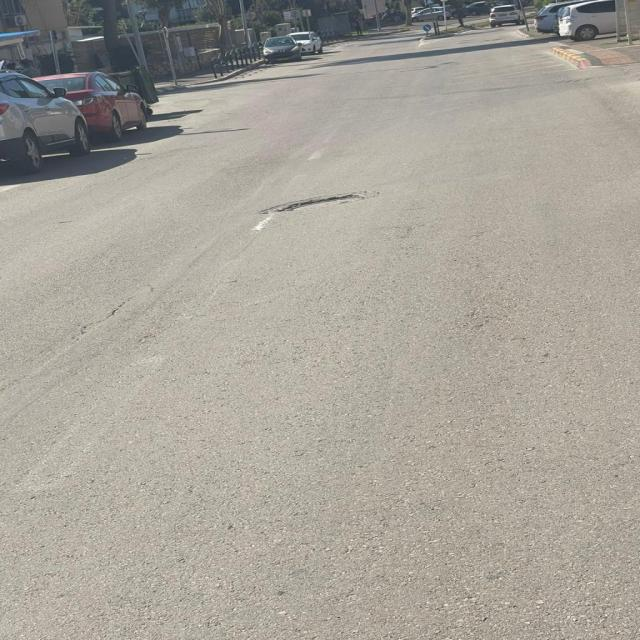medium_pothole: (259, 188, 364, 215)
